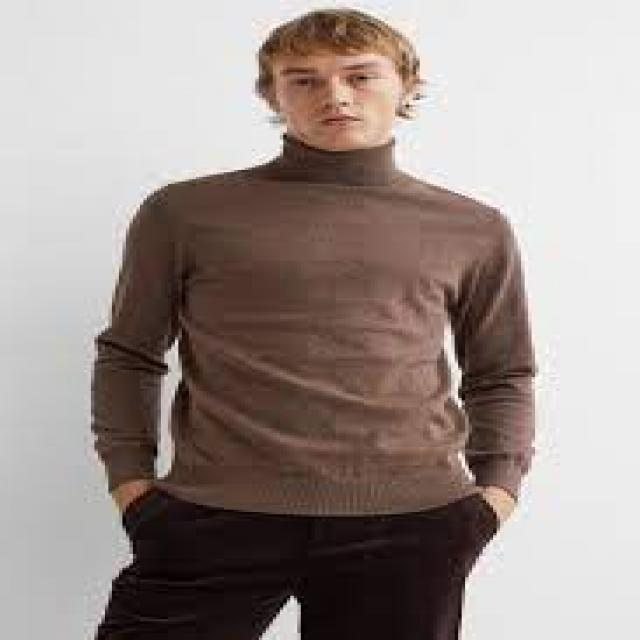plain: (94, 133, 546, 515)
